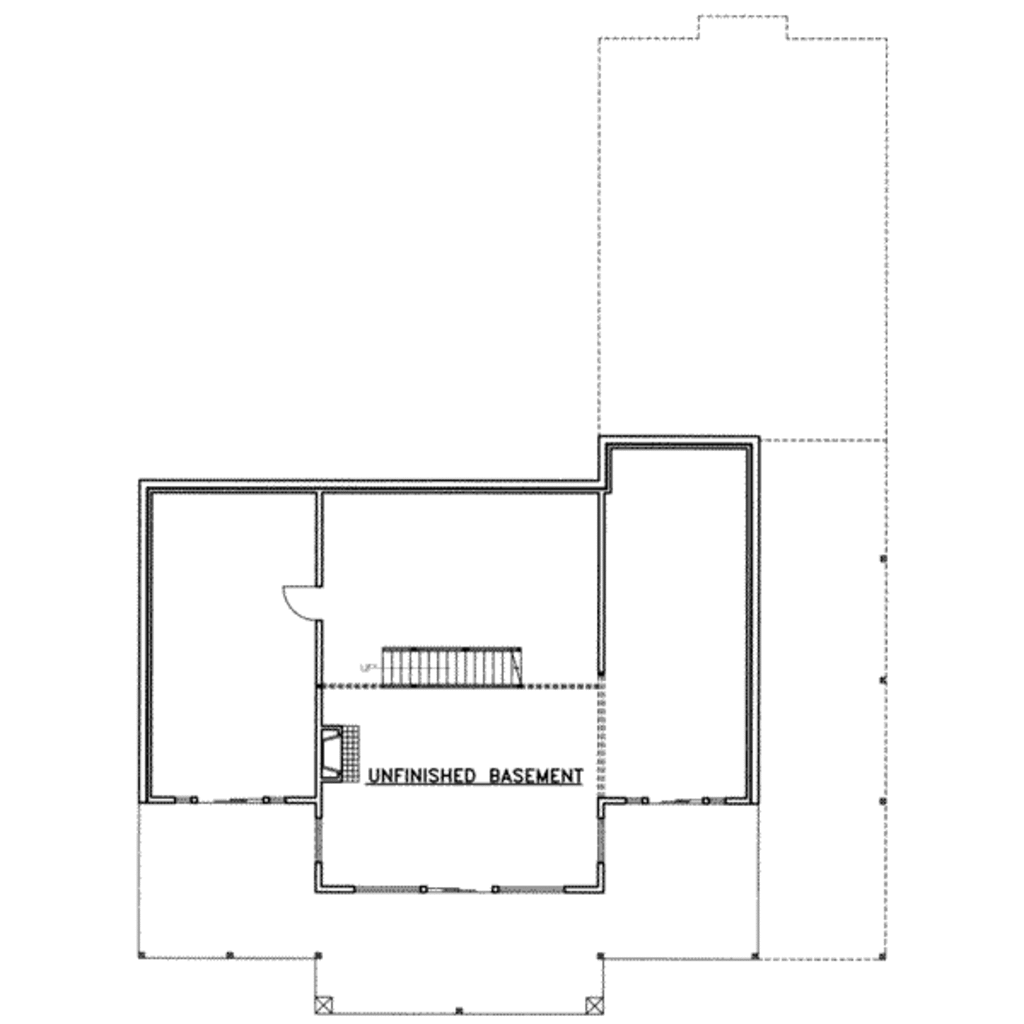door: (273, 578, 330, 624)
stairs: (373, 639, 539, 685)
